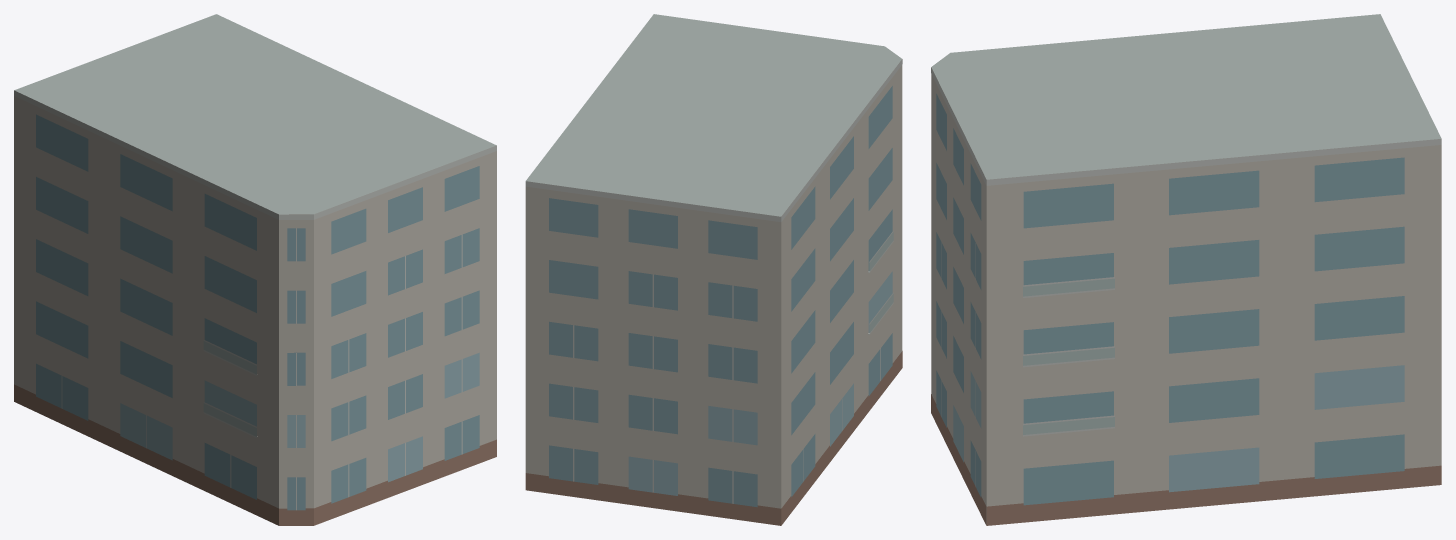
File: survey-upis-33046500.glb
3 views of the same model, side by side, from view 1: azimuth 30°, elevation 25°; view 2: azimuth 150°, elevation 25°; view 3: azimuth 270°, elevation 25° (orthographic). The views are drawn at different scales.
Parts seen in each view (by area): view 1: survey-upis-33046500.tmp; view 2: survey-upis-33046500.tmp; view 3: survey-upis-33046500.tmp.
Boxes of the visible parts, <box> form: survey-upis-33046500.tmp: <box>14,14,496,525</box>; survey-upis-33046500.tmp: <box>525,14,902,525</box>; survey-upis-33046500.tmp: <box>931,14,1441,525</box>.
Bounding box in the file's own units: 14.18 × 13.8 × 18.46.
